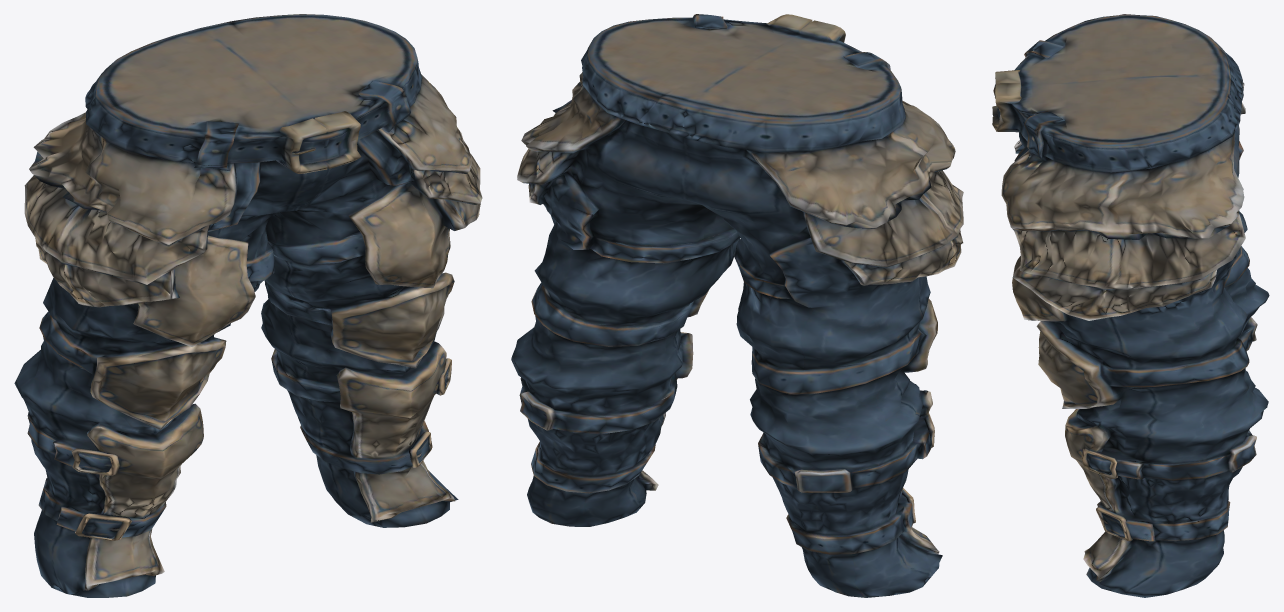
File: ruestung.beine.wacht.glb
3 views of the same model, side by side, from view 1: azimuth 30°, elevation 25°; view 2: azimuth 150°, elevation 25°; view 3: azimuth 270°, elevation 25° (orthographic). The views are drawn at different scales.
Visible parts, largest first — view 1: ruestung.beine.wacht; view 2: ruestung.beine.wacht; view 3: ruestung.beine.wacht.
Part boxes in pixels (x1,y1,x2,y2): ruestung.beine.wacht: (14,14,482,597); ruestung.beine.wacht: (511,14,963,597); ruestung.beine.wacht: (992,14,1269,597).
Bounding box in the file's own units: 0.7925 × 0.867 × 0.499.
1 material, 1 textured.
